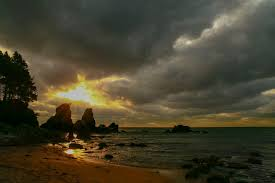beach: (12, 125, 275, 181)
sky: (5, 2, 274, 123)
tree: (6, 57, 43, 136)
